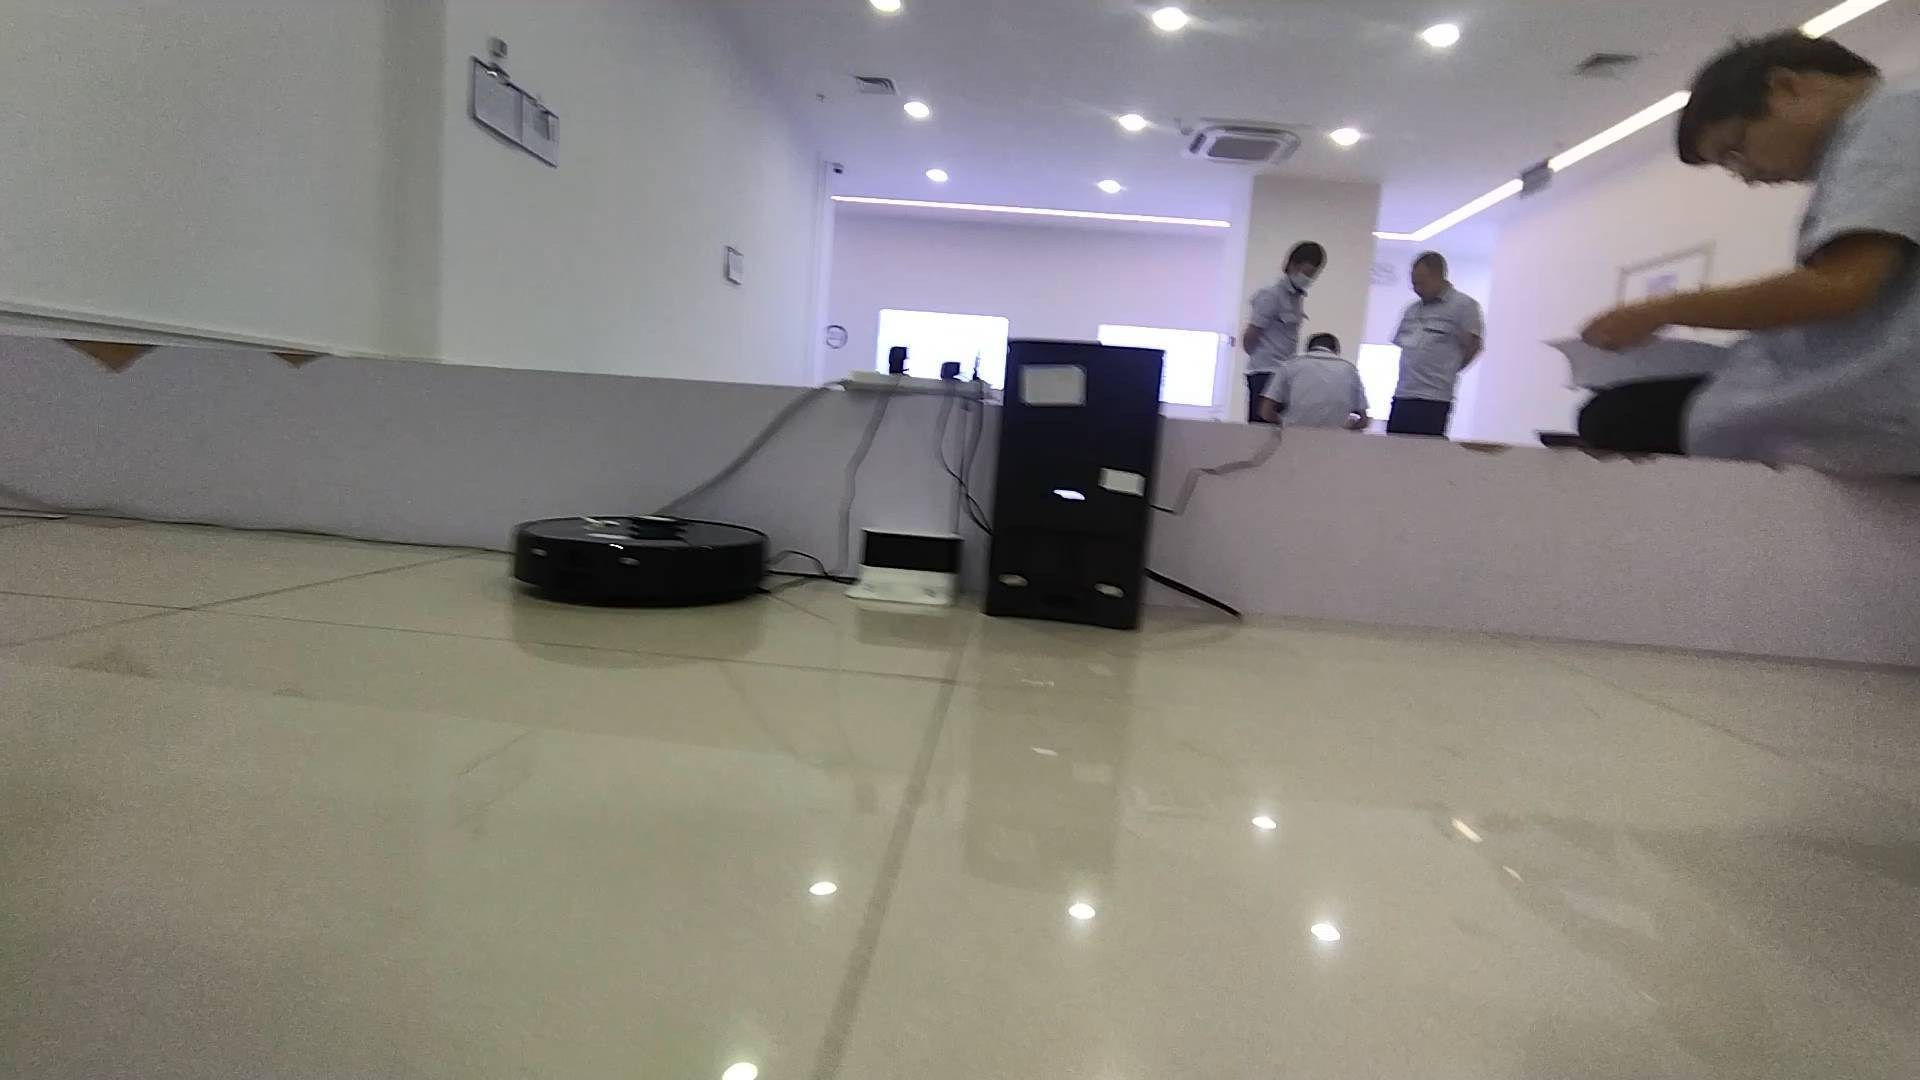dust collecting barrel: (981, 338, 1168, 636)
recharge seat: (843, 525, 965, 605)
